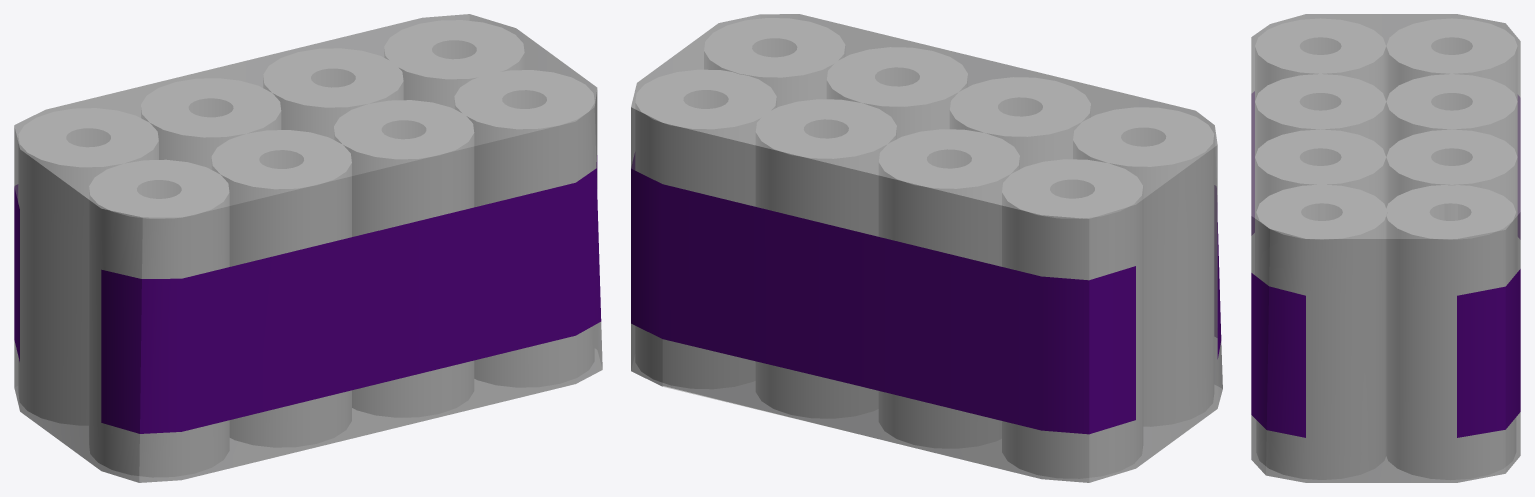
Rendered from paper_towels.fbx.
The picture shows the model from 3 angles, left to right: view 1: azimuth 30°, elevation 25°; view 2: azimuth 150°, elevation 25°; view 3: azimuth 270°, elevation 25°; orthographic projection. The views are drawn at different scales.
Visible parts, largest first — view 1: towel_wrap, paper_towel1, paper_towel2, paper_towel5, paper_towel7, paper_towel6, paper_towel3, paper_towel4, paper_towel8; view 2: towel_wrap, paper_towel2, paper_towel1, paper_towel4, paper_towel3, paper_towel8, paper_towel7, paper_towel5, paper_towel6; view 3: towel_wrap, paper_towel6, paper_towel8, paper_towel3, paper_towel5, paper_towel4, paper_towel1, paper_towel7, paper_towel2.
Part boxes in pixels (x1,y1,x2,y2): towel_wrap: [14, 14, 602, 482]; paper_towel1: [18, 108, 158, 425]; paper_towel2: [89, 160, 229, 477]; paper_towel5: [334, 100, 473, 417]; paper_towel7: [212, 130, 351, 447]; paper_towel6: [454, 70, 594, 387]; paper_towel3: [263, 48, 403, 139]; paper_towel4: [141, 78, 280, 169]; paper_towel8: [384, 20, 524, 108]; towel_wrap: [631, 14, 1222, 482]; paper_towel2: [1073, 107, 1213, 426]; paper_towel1: [1002, 159, 1142, 478]; paper_towel4: [879, 129, 1019, 448]; paper_towel3: [756, 99, 896, 418]; paper_towel8: [635, 70, 776, 388]; paper_towel7: [950, 77, 1090, 168]; paper_towel5: [827, 47, 967, 138]; paper_towel6: [704, 18, 844, 107]; towel_wrap: [1251, 14, 1520, 482]; paper_towel6: [1256, 185, 1387, 479]; paper_towel8: [1386, 185, 1515, 479]; paper_towel3: [1386, 129, 1517, 272]; paper_towel5: [1255, 129, 1385, 275]; paper_towel4: [1386, 74, 1517, 155]; paper_towel1: [1386, 18, 1517, 100]; paper_towel7: [1255, 74, 1385, 155]; paper_towel2: [1255, 18, 1385, 100].
Size of the model in its own units: 1.57 by 0.7947 by 0.7947.
